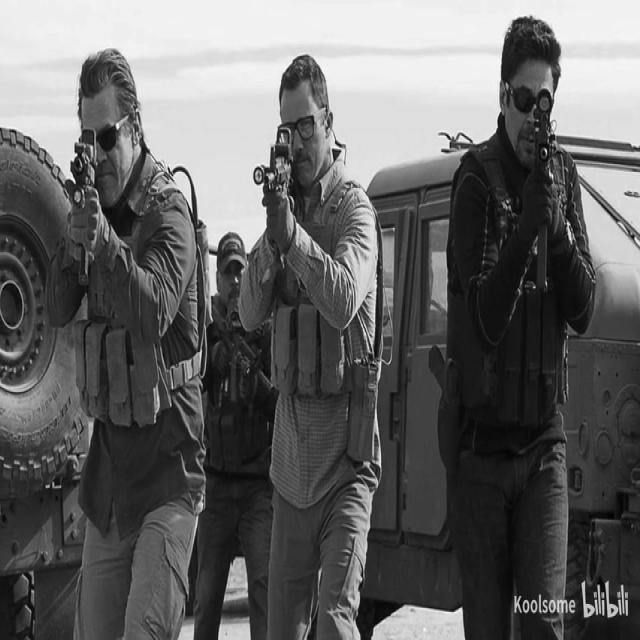Sniper: (6, 35, 158, 426), (211, 61, 371, 399), (489, 6, 614, 391)
